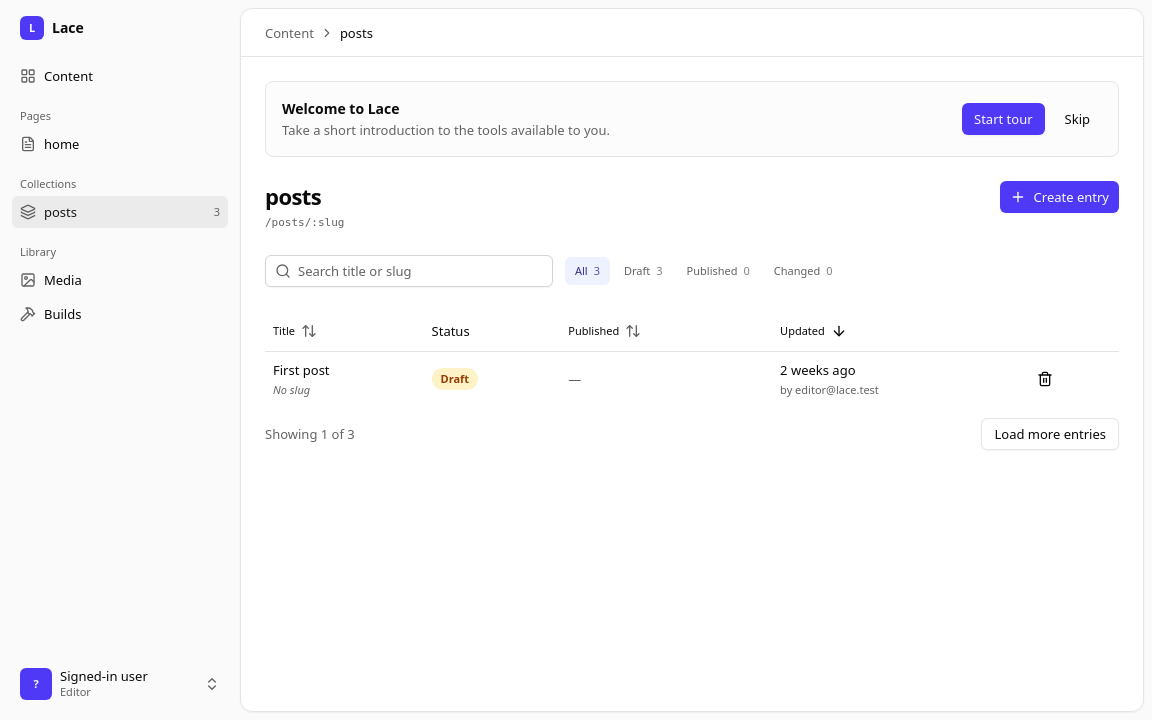
Test: cursor pages stay opaque, report progress, and keep rows when the next page fails
The width and height of the screenshot is (1152, 720).
Expected: the table named "posts entries" is shown, [265,311,1119,406]
Expected: the text "Showing 1 of 3" is shown, [265,424,355,444]
Click the button "Load more entries": click(1050, 434) [982,418,1119,450]
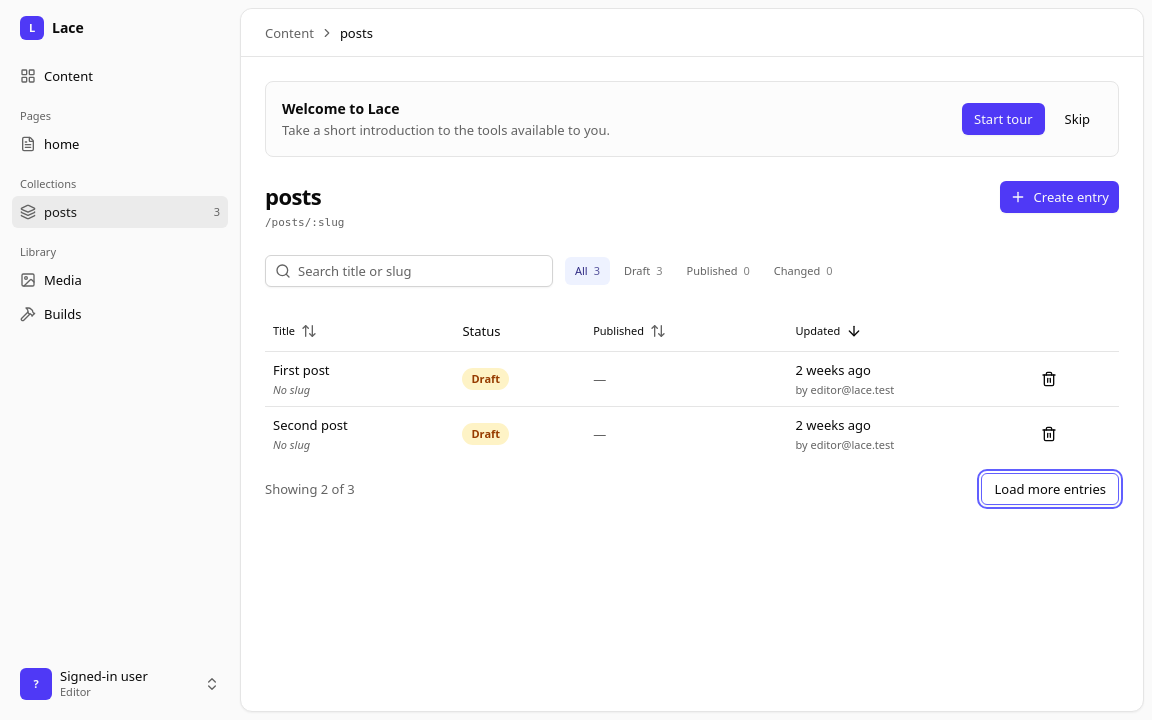
Expected: the link "Second post" is shown, [273,416,348,434]
Expected: the text "Showing 2 of 3" is shown, [265,478,355,498]
Click the button "Load more entries": click(1050, 488) [982,472,1119,504]
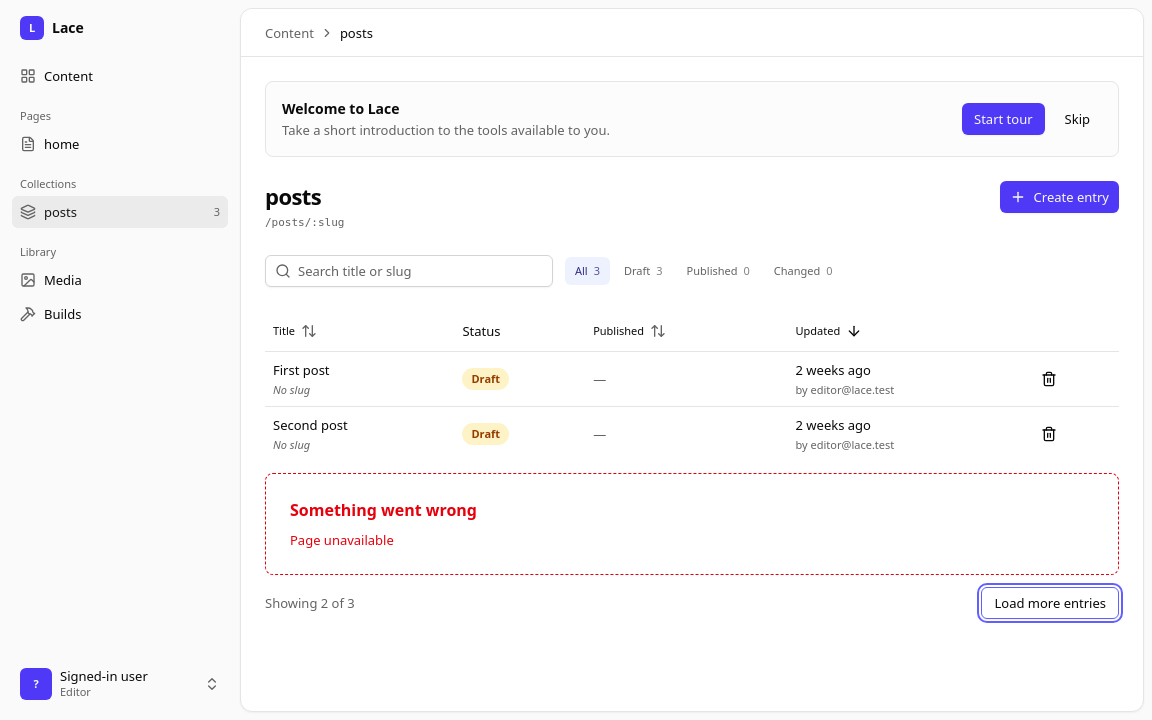
Expected: the link "First post" is shown, [273,360,330,378]
Expected: the link "Second post" is shown, [273,416,348,434]
Expected: the message shows "Page unavailable", [290,530,394,548]
